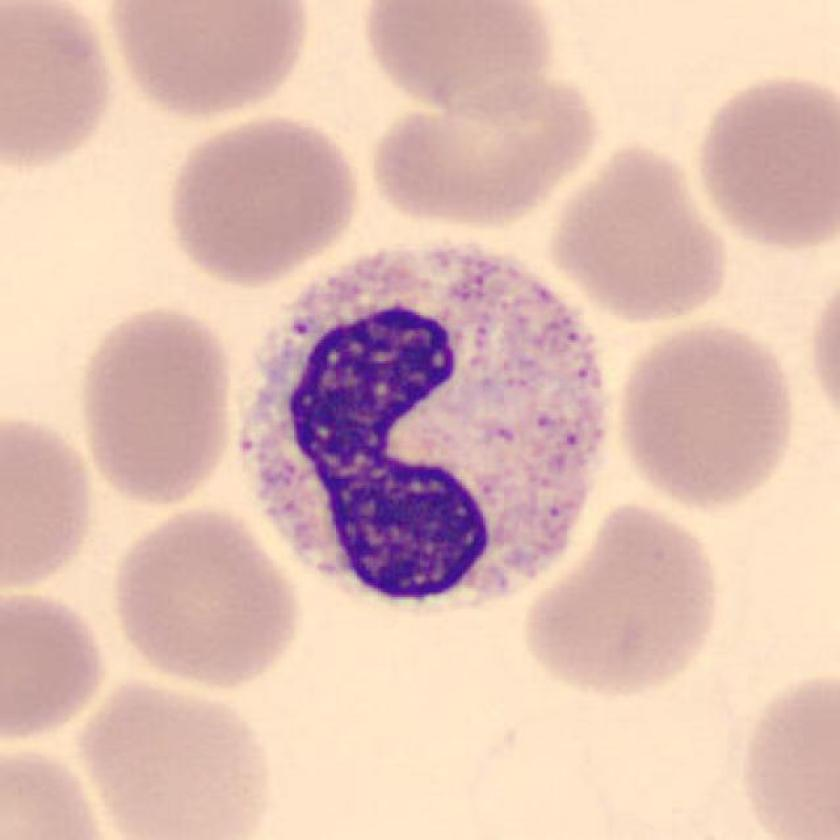neutrophil: (244, 243, 605, 608)
